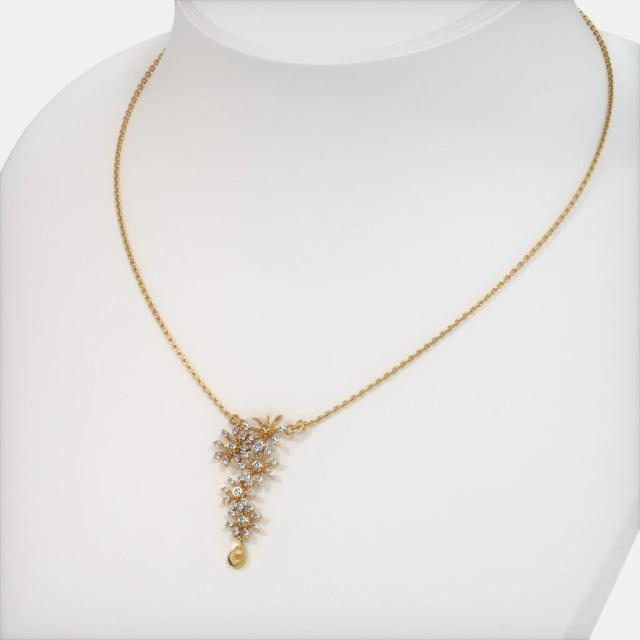missing gem: (228, 541, 247, 568), (263, 427, 269, 433)
